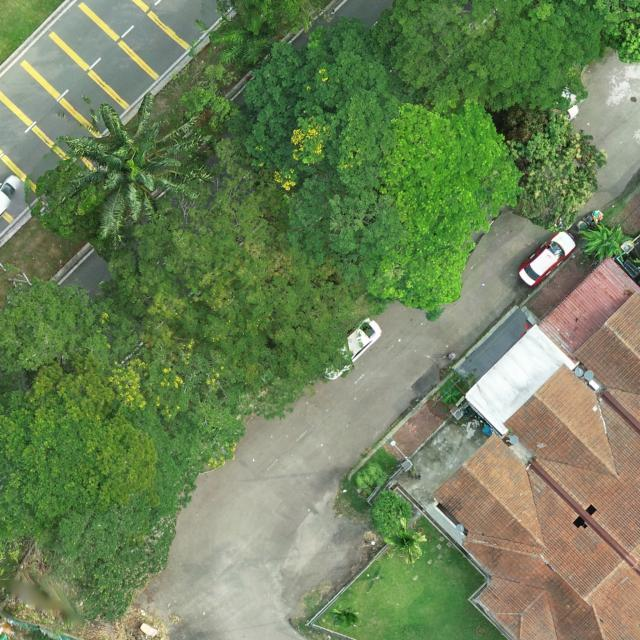tree: (95, 132, 365, 424), (0, 356, 249, 625), (243, 15, 404, 287), (364, 98, 526, 322), (368, 0, 609, 116), (65, 90, 215, 248), (510, 111, 610, 233)
